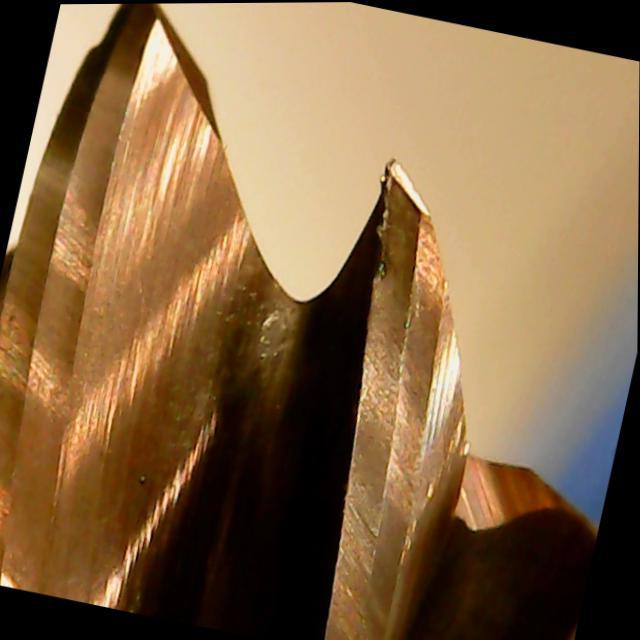Tool-wear-class-1: (302, 148, 504, 489)
